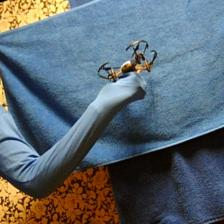drone: (97, 40, 158, 83)
